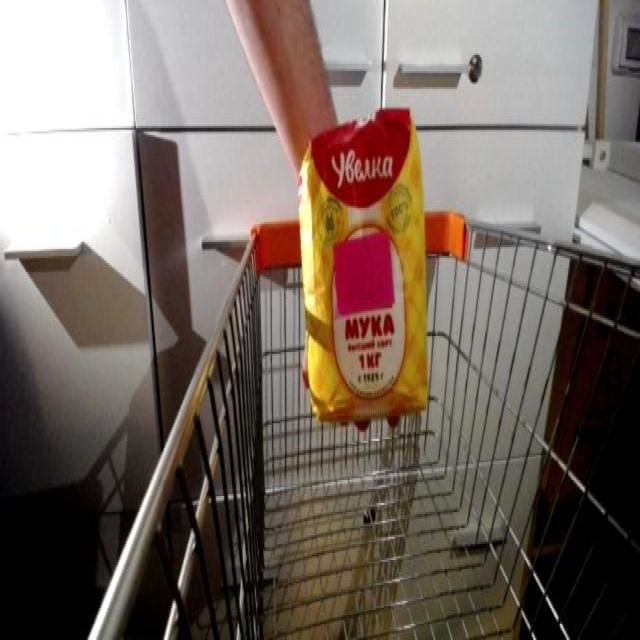Almond Milk: (292, 100, 441, 438)
